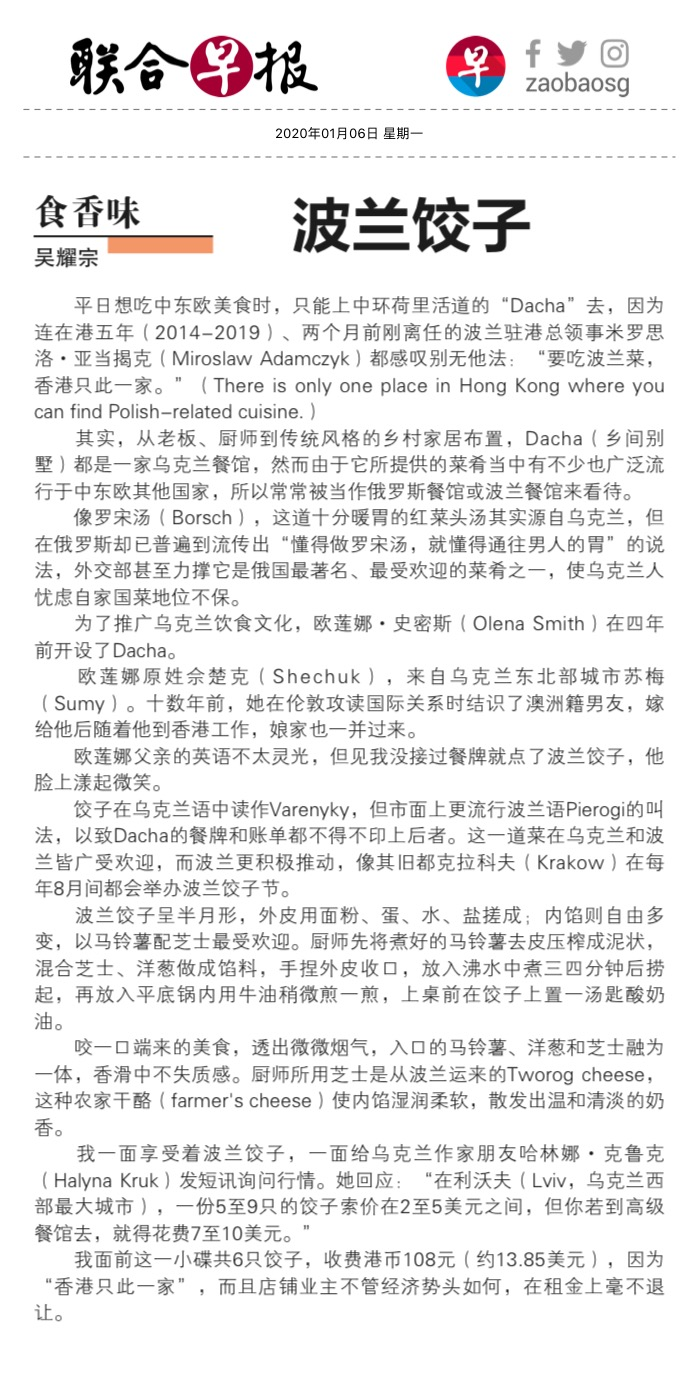heading: (286, 188, 539, 259)
